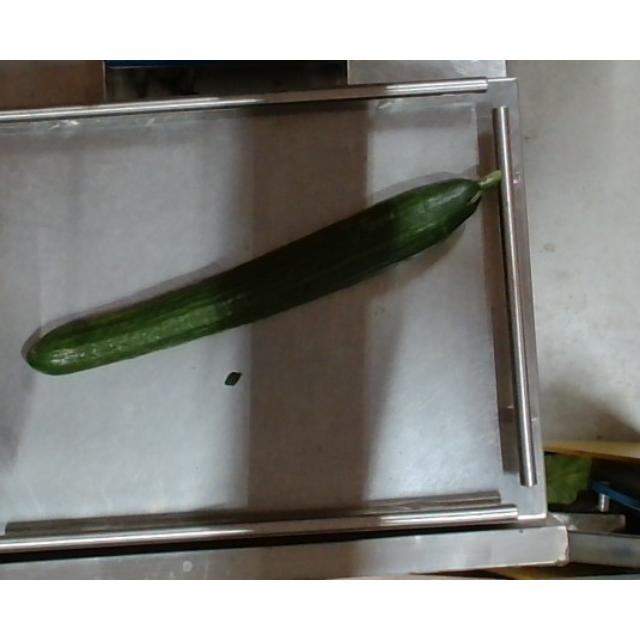cucumber: (24, 166, 503, 376)
